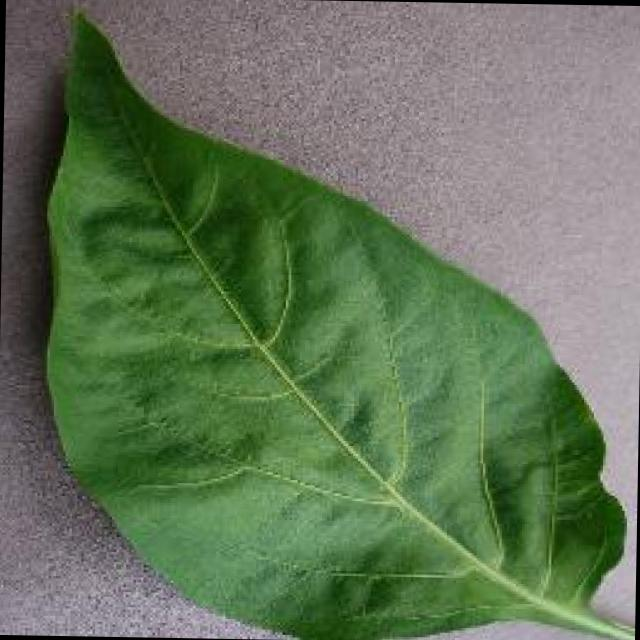Chilli_Healthy: (35, 3, 640, 640)
